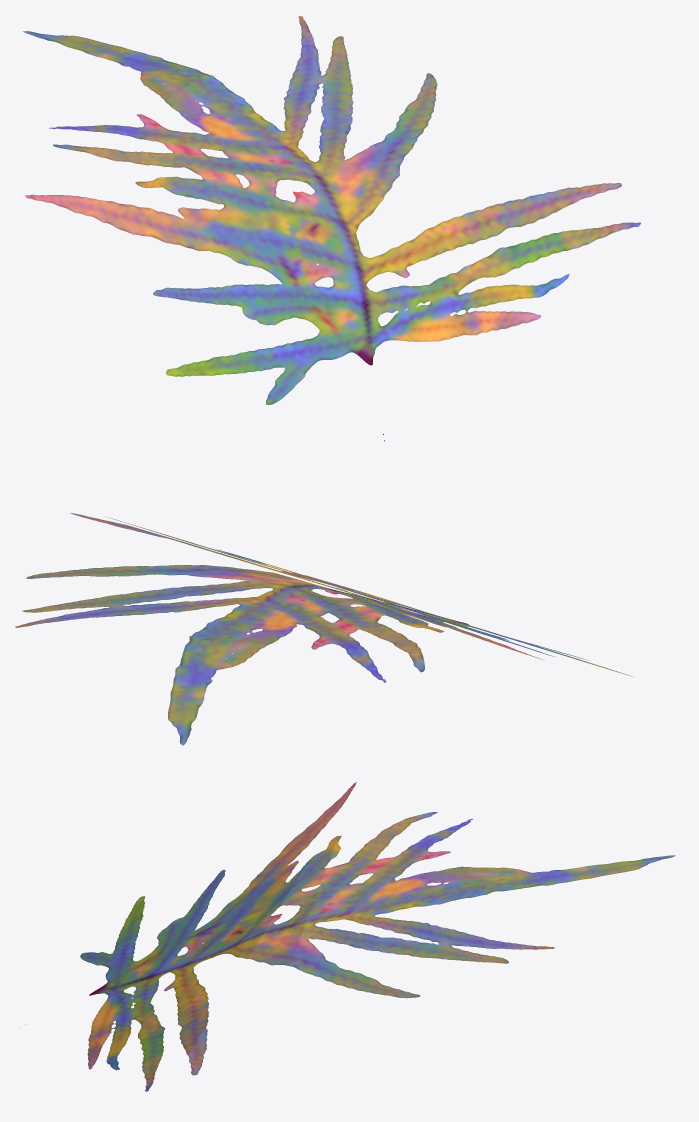
File: Painter Wort Leaf B.fbx
3 views of the same model, one above another, from view 1: azimuth 30°, elevation 25°; view 2: azimuth 150°, elevation 25°; view 3: azimuth 270°, elevation 25° (orthographic). The views are drawn at different scales.
Parts seen in each view (by area): view 1: Painter Wort Leaf B; view 2: Painter Wort Leaf B; view 3: Painter Wort Leaf B.
Boxes of the visible parts, left/top/right/bottom form: Painter Wort Leaf B: left=23, top=16, right=640, bottom=441; Painter Wort Leaf B: left=15, top=513, right=633, bottom=745; Painter Wort Leaf B: left=20, top=782, right=675, bottom=1091.
Size of the model in its own units: 64 by 19.76 by 68.76.
